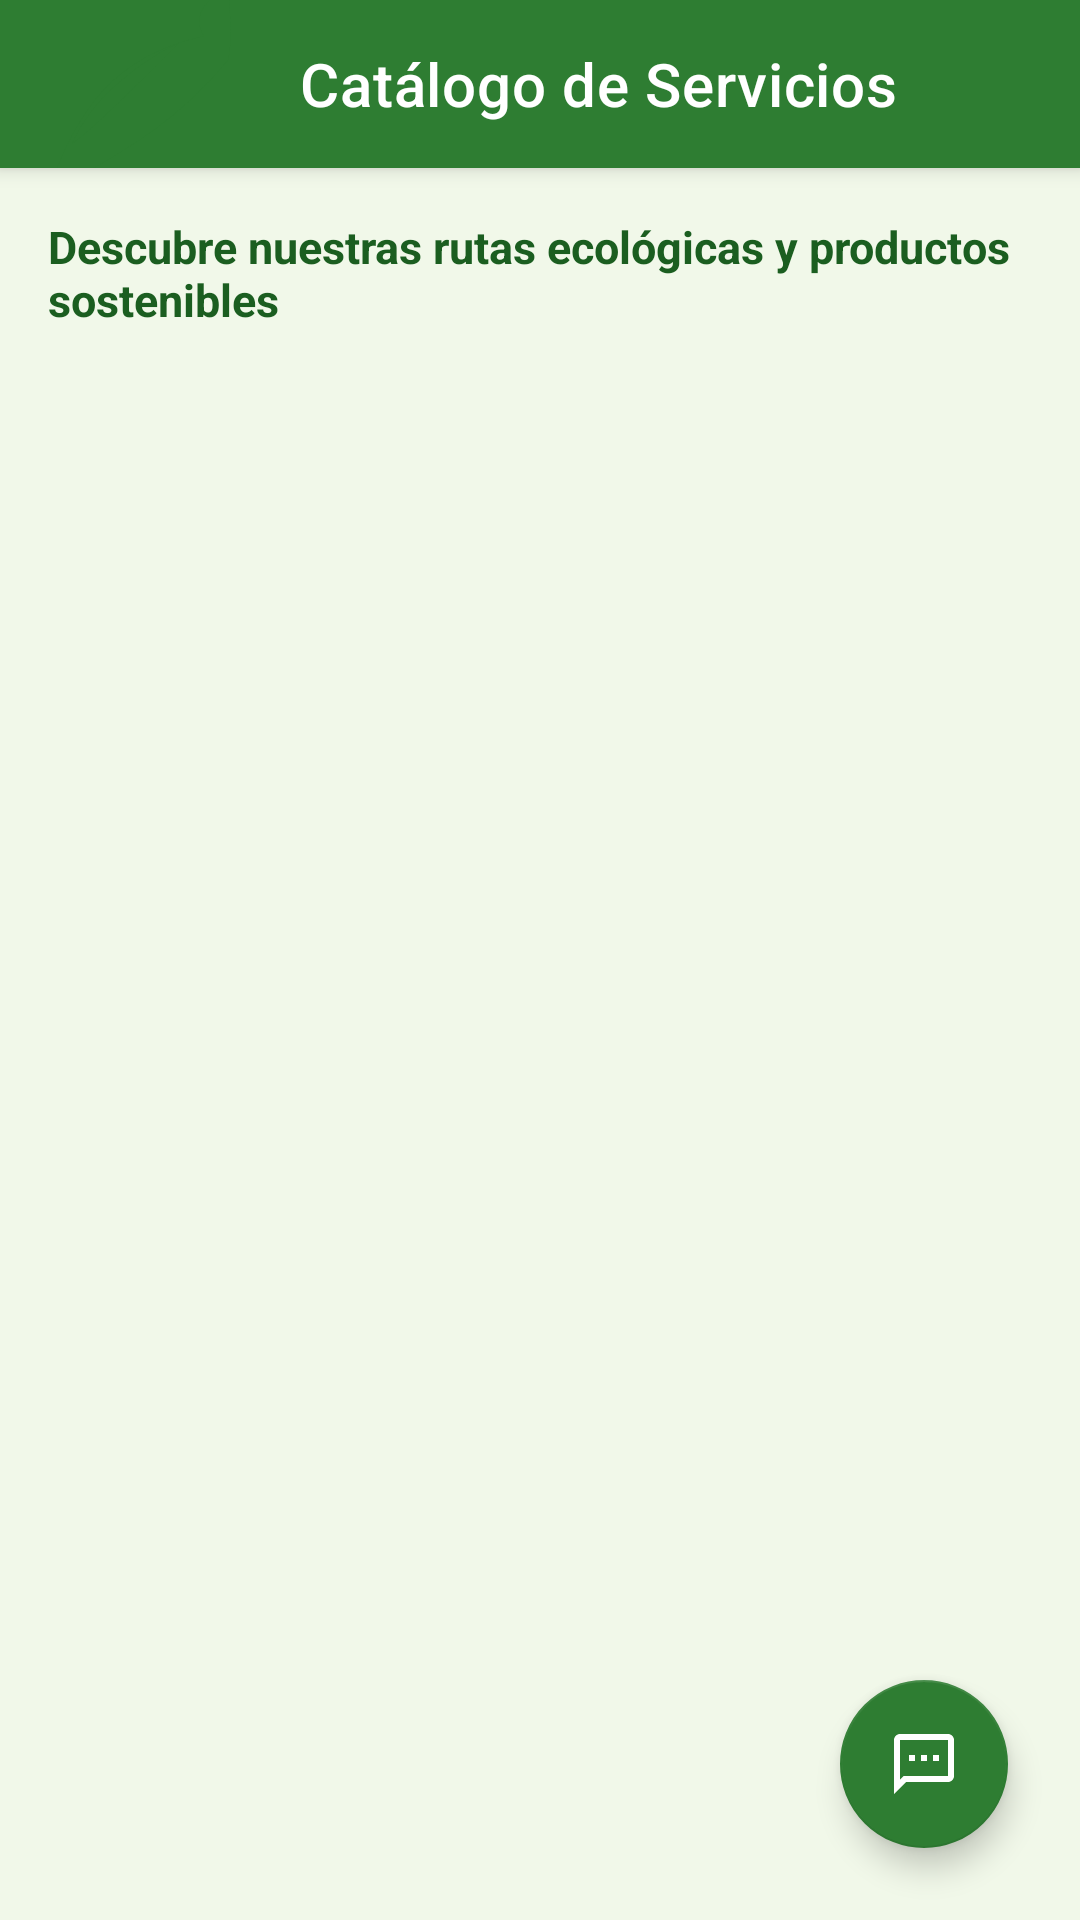

Icons on this 1080 × 1920 Android screen, each with its box as (x1, y1, x2, y2):
Iniciando chat de contacto y soporte…: (840, 1680, 1008, 1848)
